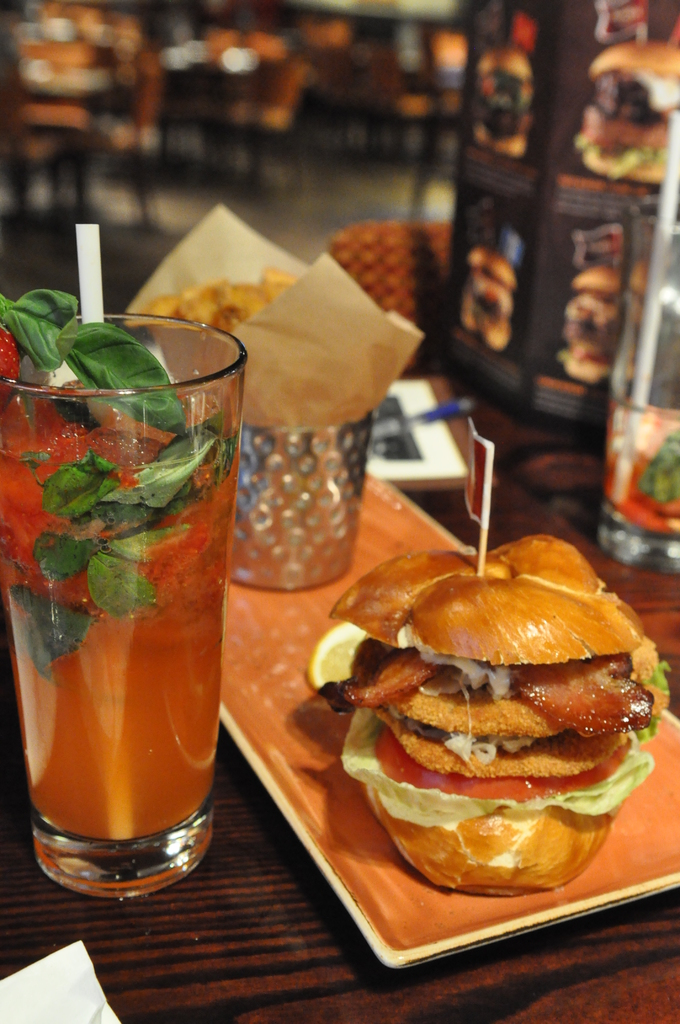Hamburger: (316, 533, 674, 900)
